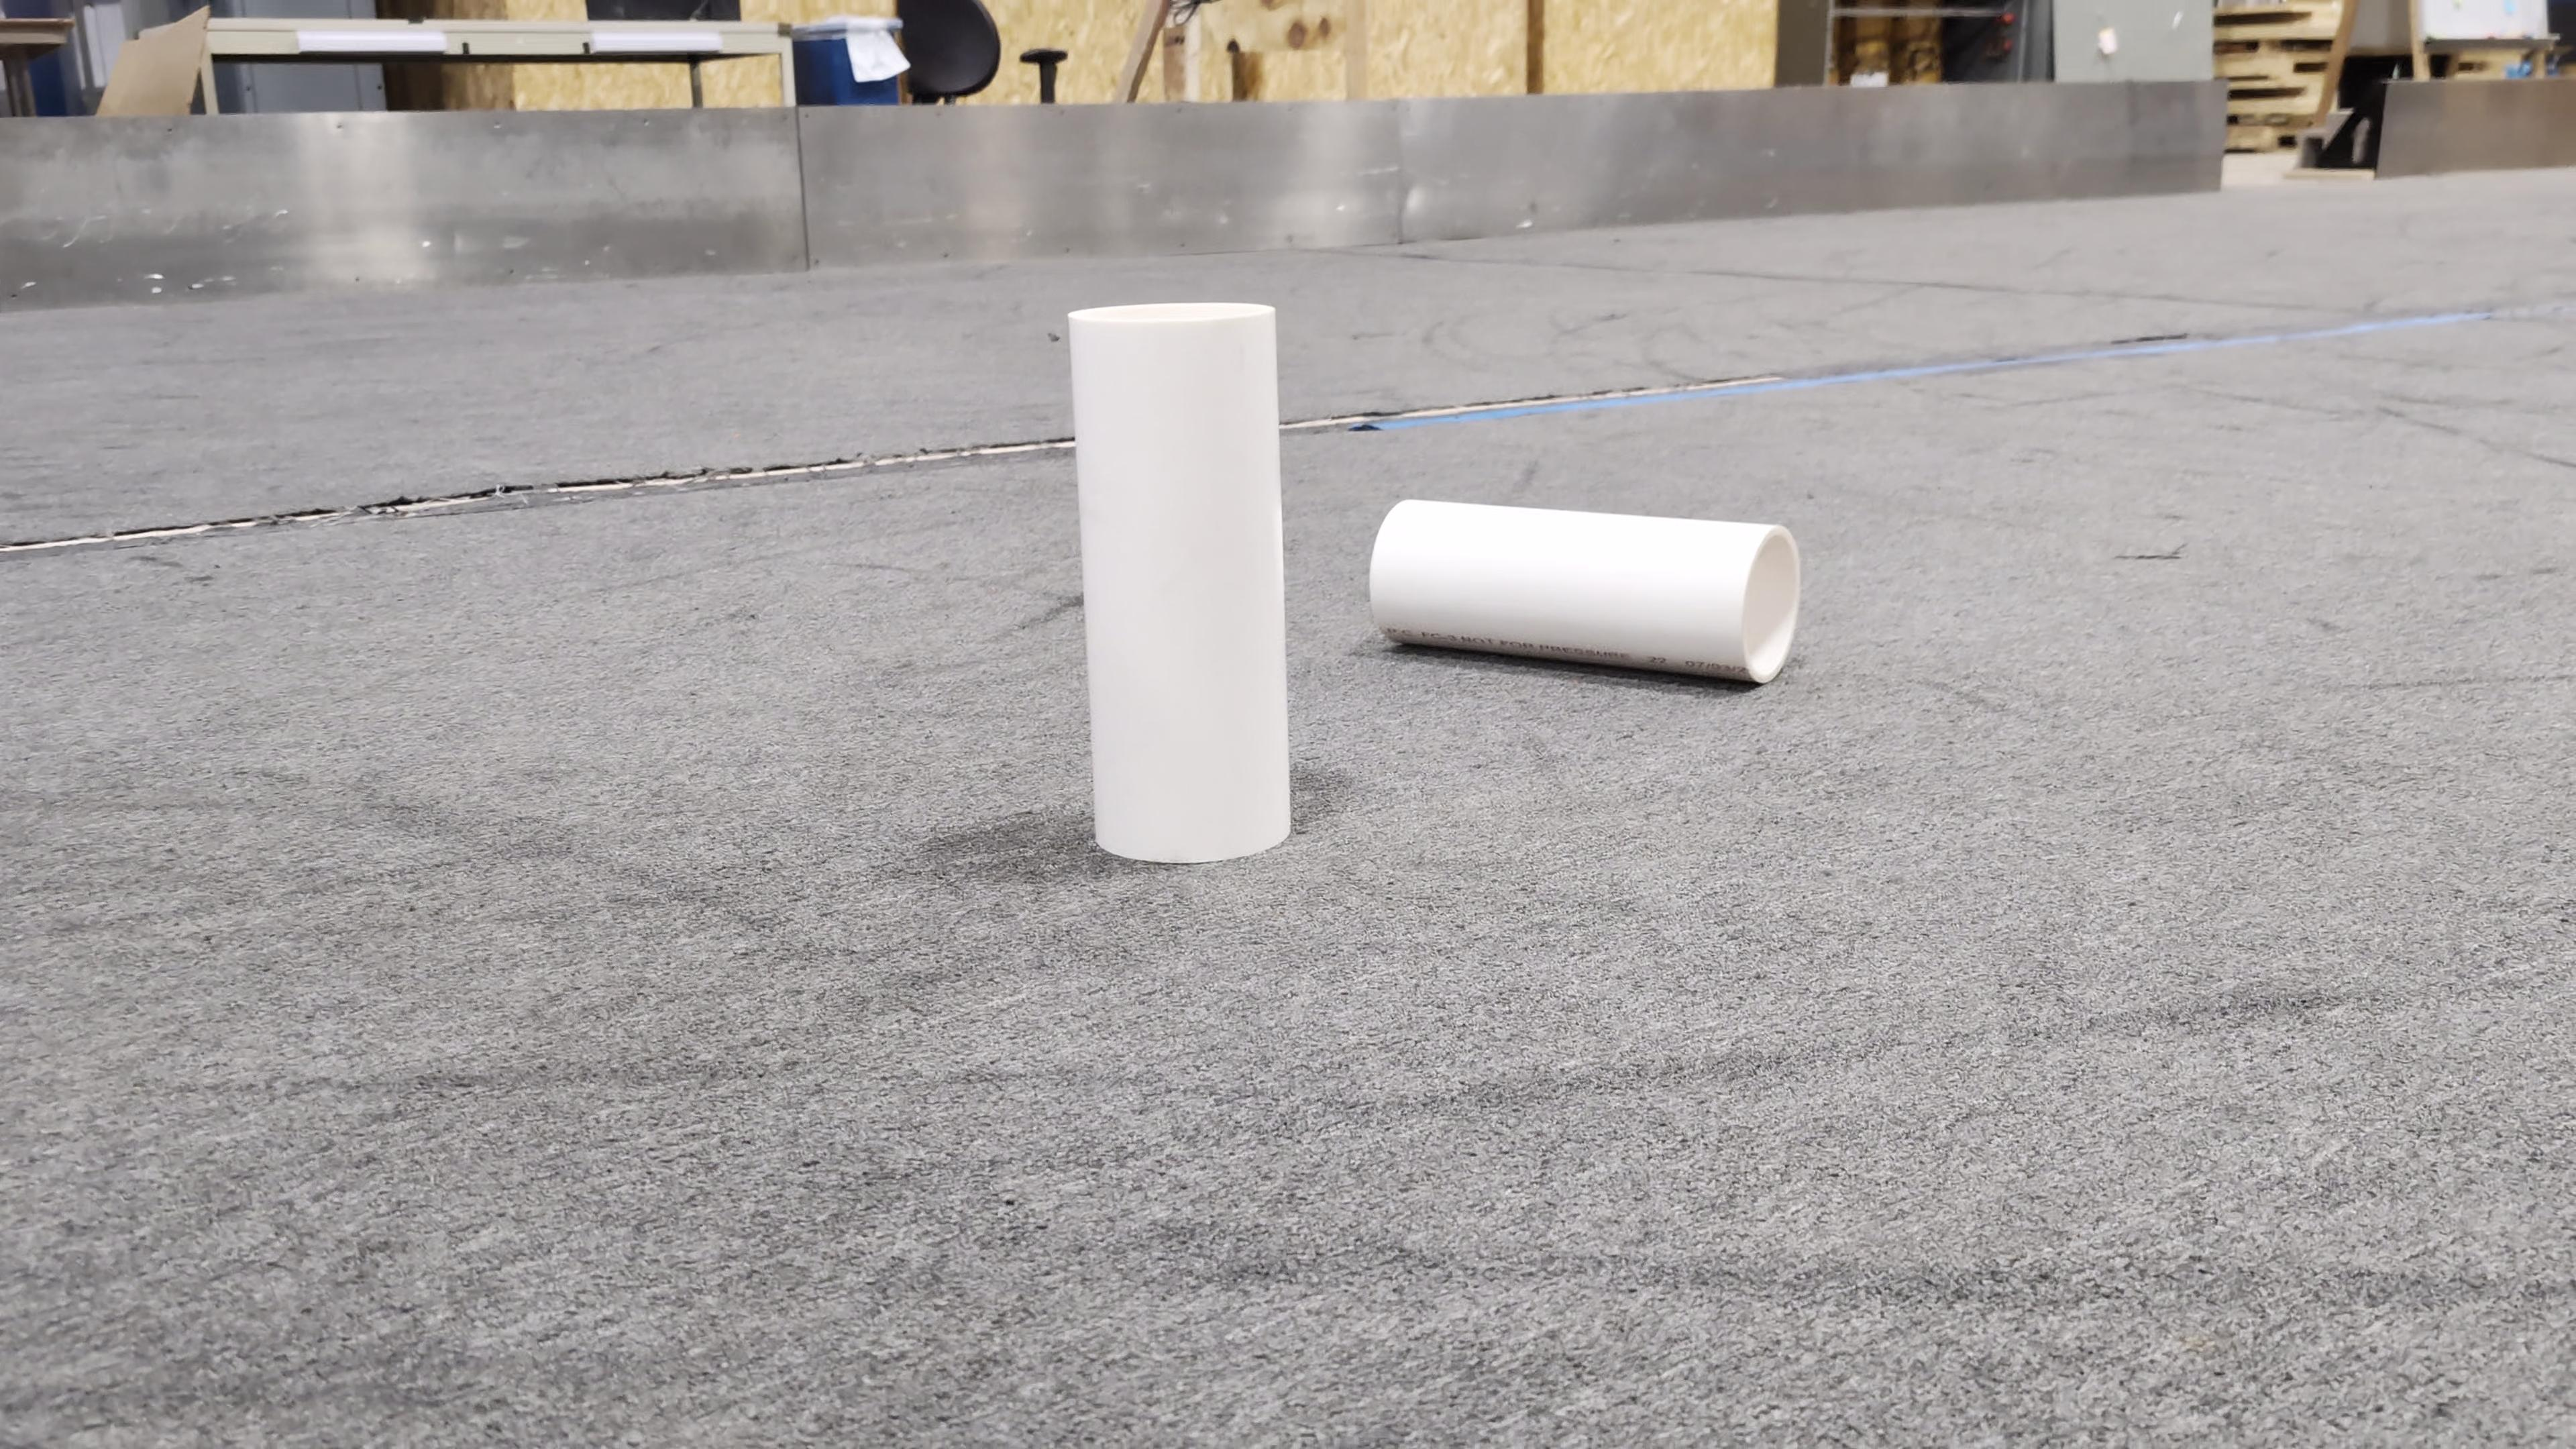coral: (1060, 295, 1295, 858), (1368, 494, 1799, 681)
